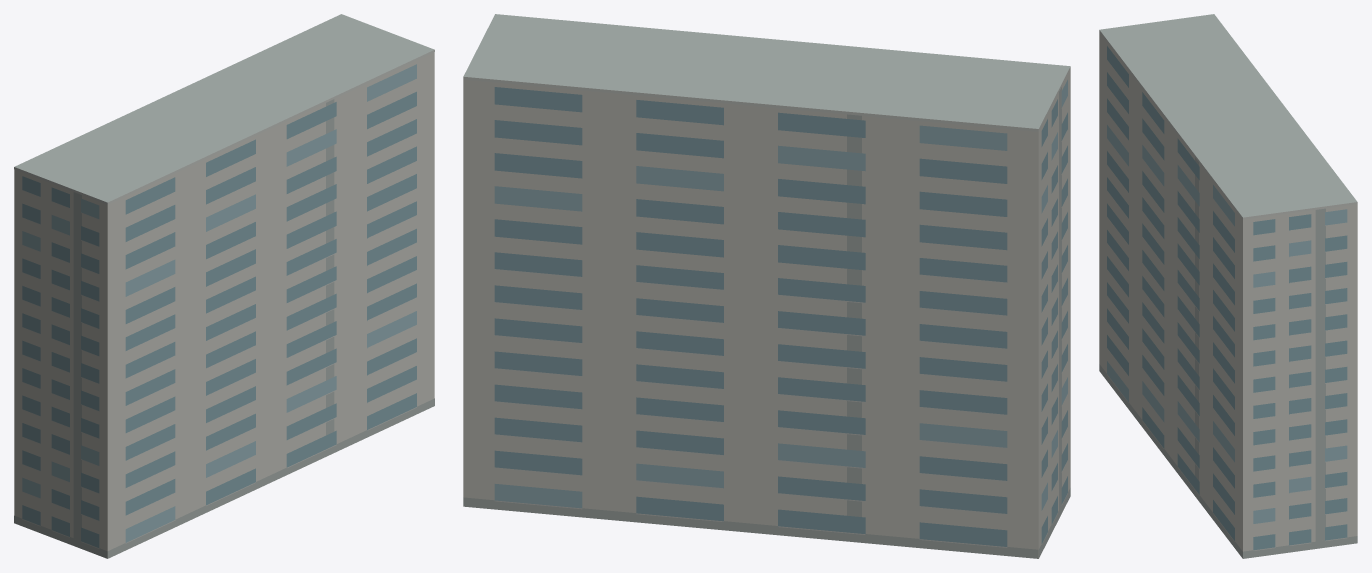
The model's file is residential-bc6ef1ab-17bd-42dc-a3c5-487a7c886242.glb.
3 views of the same model, side by side, from view 1: azimuth 30°, elevation 25°; view 2: azimuth 150°, elevation 25°; view 3: azimuth 270°, elevation 25° (orthographic). The views are drawn at different scales.
Visible parts, largest first — view 1: residential-bc6ef1ab-17bd-42dc-a3c5-487a7c886242.tmp; view 2: residential-bc6ef1ab-17bd-42dc-a3c5-487a7c886242.tmp; view 3: residential-bc6ef1ab-17bd-42dc-a3c5-487a7c886242.tmp.
Boxes of the visible parts, box(x1,y1,x2,y2) form: residential-bc6ef1ab-17bd-42dc-a3c5-487a7c886242.tmp: box(14, 14, 434, 558); residential-bc6ef1ab-17bd-42dc-a3c5-487a7c886242.tmp: box(463, 14, 1070, 558); residential-bc6ef1ab-17bd-42dc-a3c5-487a7c886242.tmp: box(1099, 14, 1357, 558).
Size of the model in its own units: 47.35 by 37 by 25.38.
